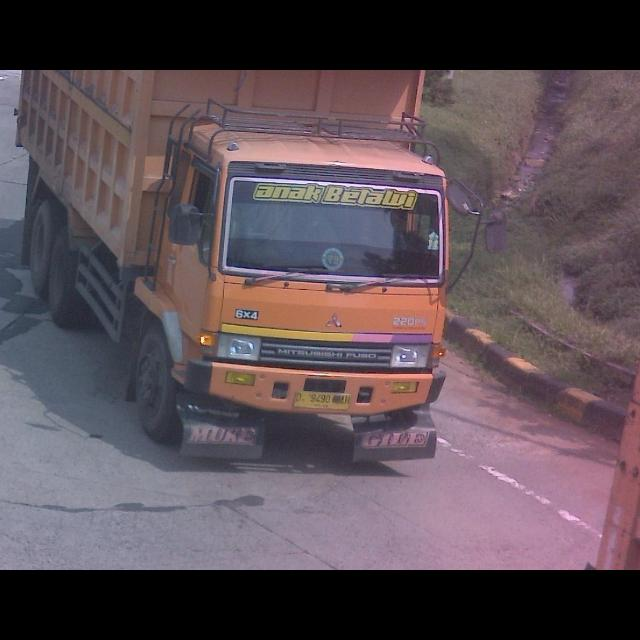plate: (292, 388, 352, 412)
